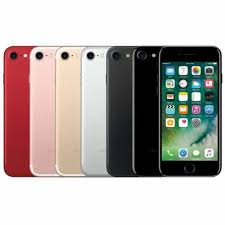iphone: (157, 44, 221, 177)
iphone7: (157, 44, 221, 177)
